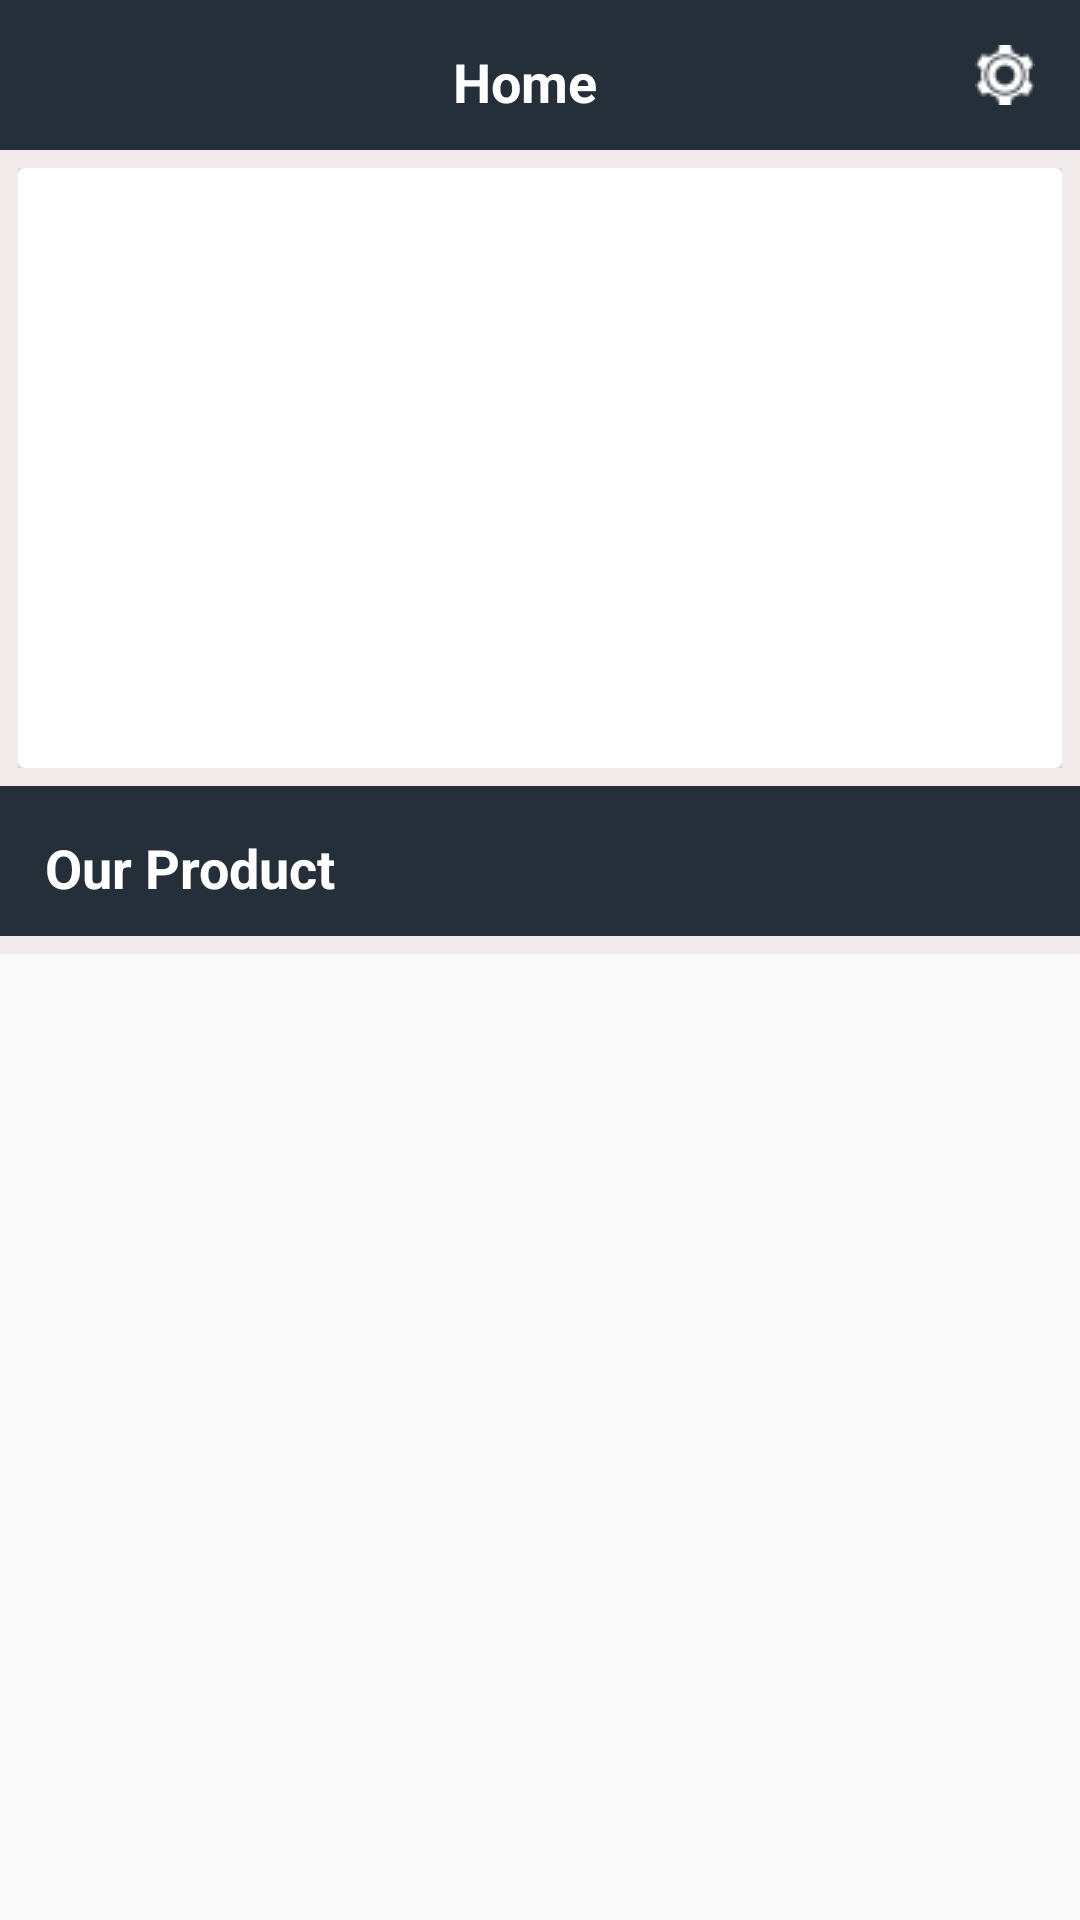

Icon click points for this 1080x1920 phone screenshot, format (x=x, y=y):
setting: (x=1005, y=75)
